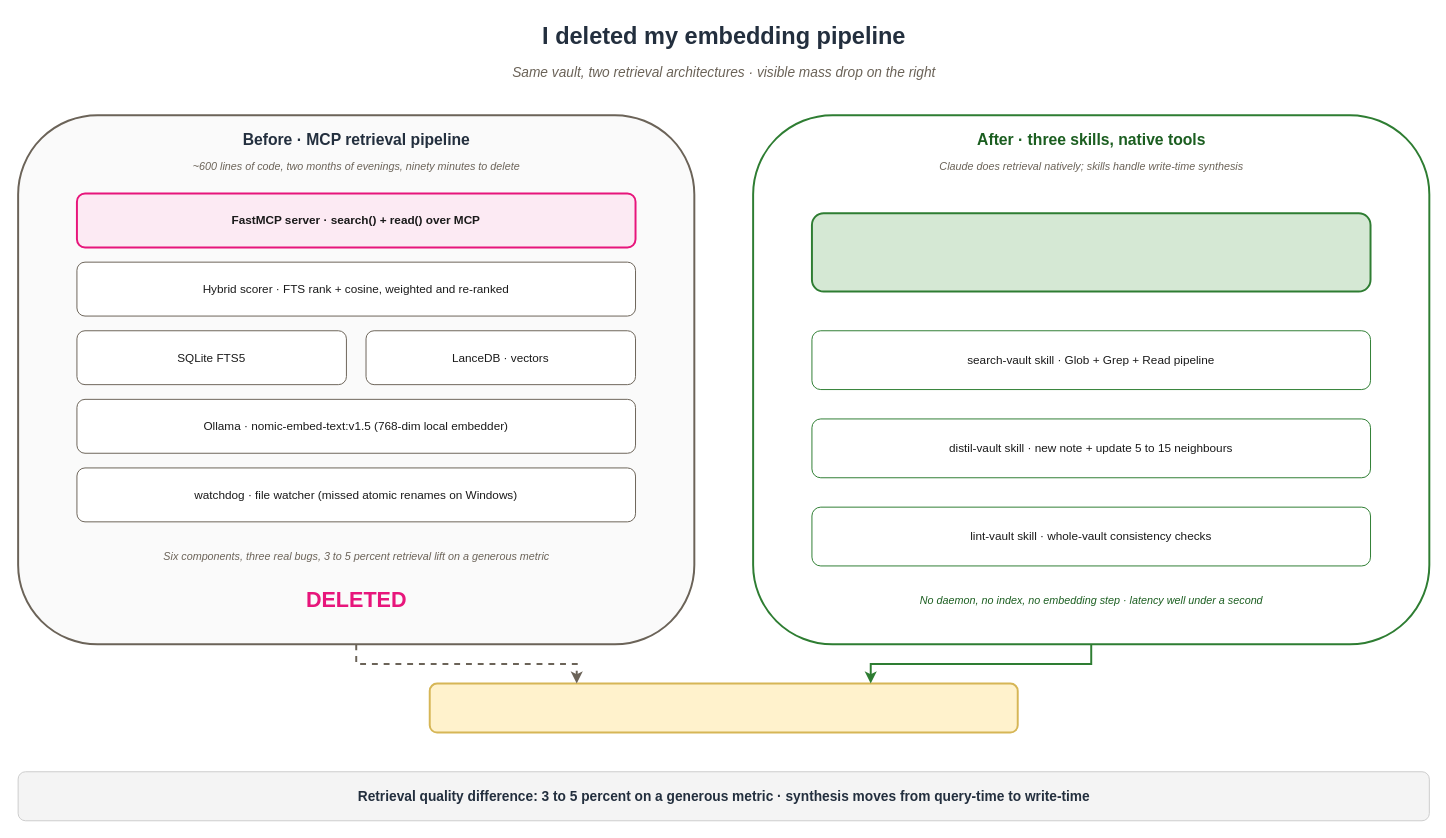
Some shapes in this 1446 by 838 pixel diagram are drawn without their labels. Here are the shapes that lost their labels. From the top down, the centre of each, then its label:
At (1090,252): "Claude Code · Read + Grep + Glob".
At (723,707): "Vault · ~216 markdown files with frontmatter".
